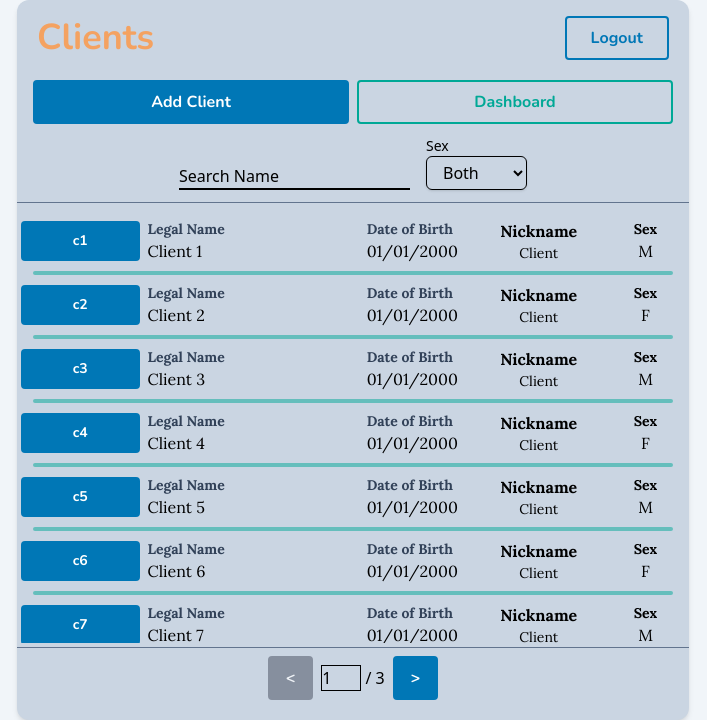
Scenario: View Clients List Page tests › Pagination Tests › should change pages when the next button is pressed
Check: the number field with test id "pagination-input" holds "1", box [321,665,361,691]
Click the button with test id "pagination-next" at point(416, 678), box [393,656,438,700]
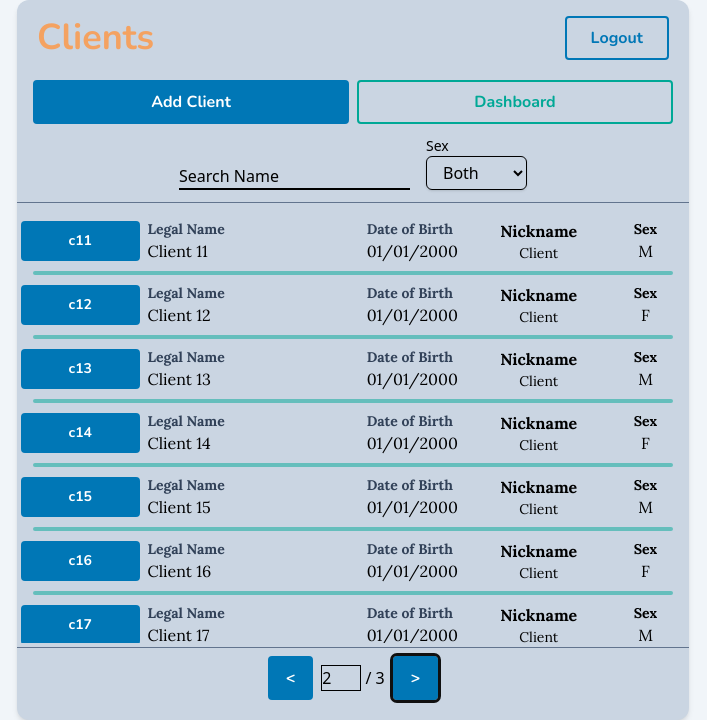
Check: the number field with test id "pagination-input" holds "2", box [321,665,361,691]
Check: the text "Client 11" is shown, box [148,241,208,261]
